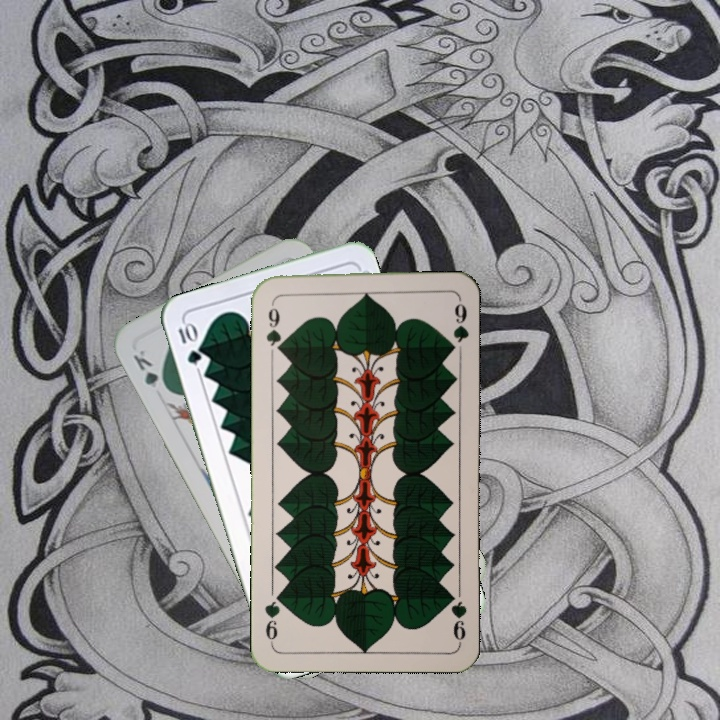G10: (174, 318, 204, 367)
G9: (444, 587, 470, 646), (262, 297, 285, 356)
GK: (128, 346, 172, 395)
